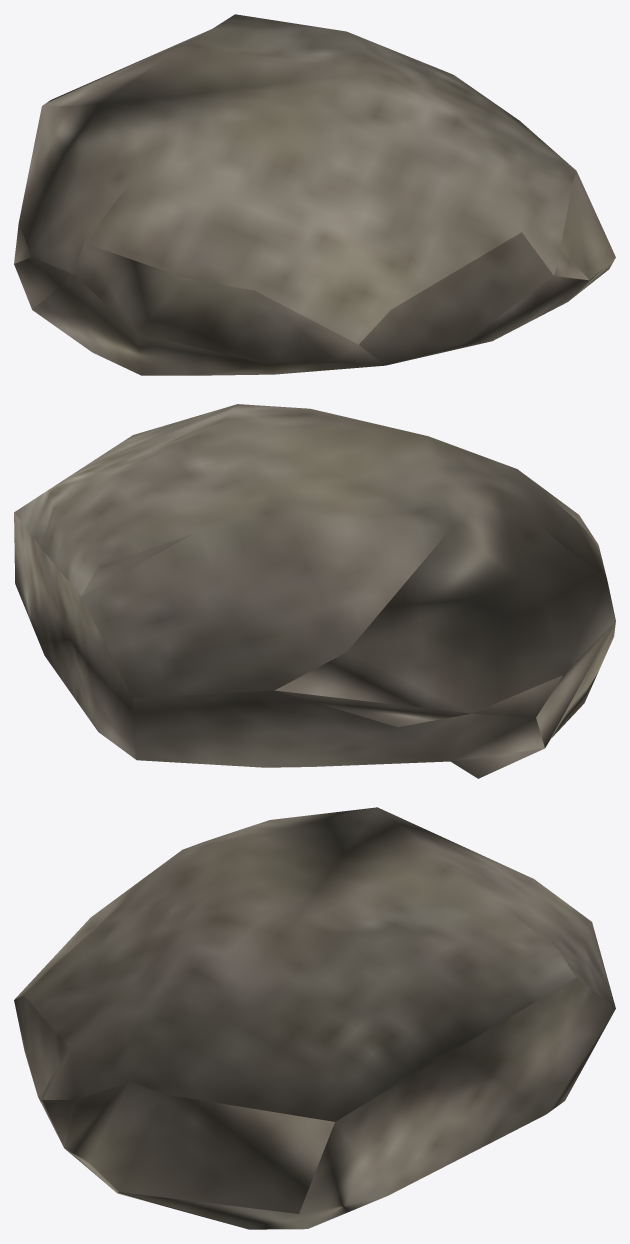
The model's file is rock_small_b1.glb.
The picture shows the model from 3 angles, top to bottom: view 1: azimuth 30°, elevation 25°; view 2: azimuth 150°, elevation 25°; view 3: azimuth 270°, elevation 25°; orthographic projection. The views are drawn at different scales.
Parts seen in each view (by area): view 1: SM_Small_Rock_B3; view 2: SM_Small_Rock_B3; view 3: SM_Small_Rock_B3.
Boxes of the visible parts, x1,y1,x2,y2 form: SM_Small_Rock_B3: (14,14,615,375); SM_Small_Rock_B3: (14,404,615,778); SM_Small_Rock_B3: (14,807,615,1229).
Bounding box in the file's own units: 0.9 × 0.3859 × 0.8768.
Materials: 1 (1 with a texture image).
